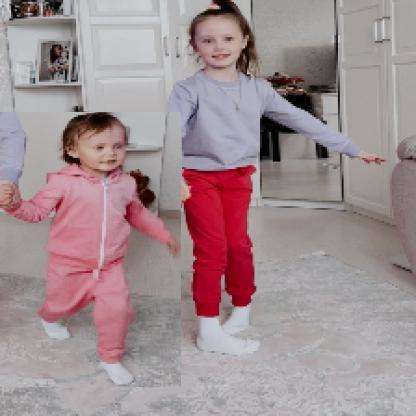child: (155, 2, 387, 357), (1, 113, 183, 389)
